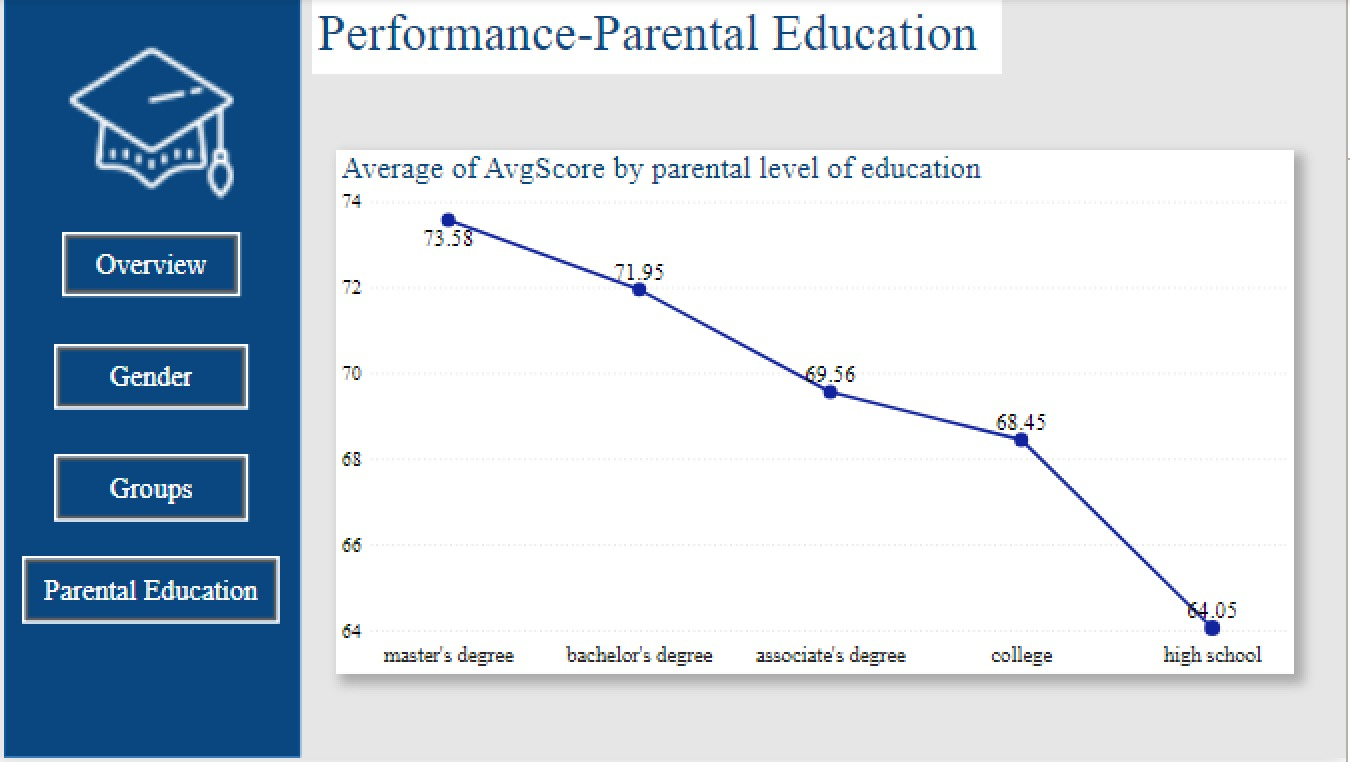

This screenshot's page, from the dashboard's own definition file:
{"tool":"powerbi","page":{"name":"Parental Education","canvas":[1280,720],"ordinal":3},"visuals":[{"type":"shape","box":[9.6,0,280.8,719.2],"z":0},{"type":"actionButton","box":[56.8,431.7,183.7,64.4],"z":1000},{"type":"actionButton","box":[56.8,327.6,183.7,62.5],"z":2000},{"type":"actionButton","box":[64.4,221.5,168.5,60.6],"z":3000},{"type":"image","box":[26.5,36,244.3,164.7],"z":4000},{"type":"textbox","box":[301.1,0,653.3,72],"z":5000},{"type":"actionButton","box":[26.5,528.3,244.3,64.4],"z":6000},{"type":"lineChart","fields":{"Category":["StudentsPerformance.parental level of education"],"Y":["Avg(StudentsPerformance.AvgScore)"]},"box":[323.8,143.9,907,496.1],"z":7000}]}

Visuals, with their boxes in screenshot pixels (x1, y1, x2, y2), scaled from the page's 1280x720 canvas onto the 1350x762 screenshot:
shape: rect(10, 0, 306, 761)
actionButton: rect(60, 457, 254, 525)
actionButton: rect(60, 347, 254, 413)
actionButton: rect(68, 234, 246, 299)
image: rect(28, 38, 286, 212)
textbox: rect(318, 0, 1007, 76)
actionButton: rect(28, 559, 286, 627)
lineChart - StudentsPerformance.parental level of education x Avg(StudentsPerformance.AvgScore): rect(342, 152, 1298, 677)
